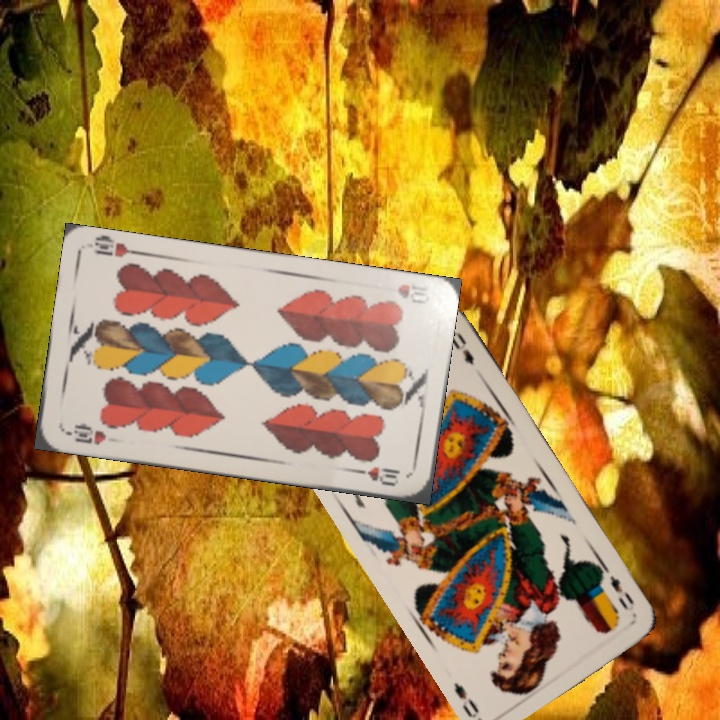EO: (605, 571, 638, 614)
H10: (62, 420, 109, 447), (393, 280, 433, 307)
